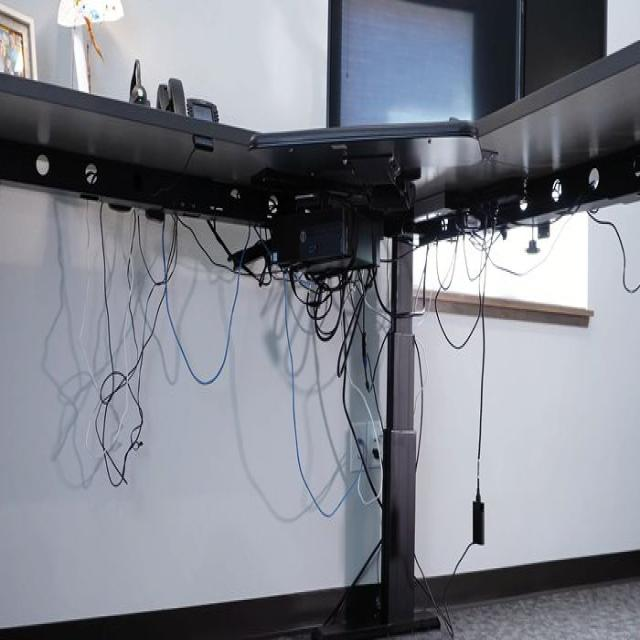electronics: (0, 45, 638, 240), (249, 120, 481, 270), (329, 0, 604, 123), (329, 0, 519, 123), (465, 0, 605, 117), (229, 203, 380, 275), (164, 285, 239, 386), (522, 0, 605, 91), (272, 205, 381, 270), (467, 0, 522, 117), (587, 208, 638, 293), (286, 211, 354, 262), (156, 78, 219, 120), (157, 78, 219, 120), (156, 78, 218, 120), (157, 78, 218, 120), (228, 240, 271, 267), (156, 78, 187, 115), (156, 78, 185, 112), (129, 59, 149, 106), (130, 59, 149, 106), (129, 59, 149, 102), (130, 59, 149, 102), (526, 219, 549, 254), (187, 98, 219, 120), (187, 99, 216, 120), (472, 490, 483, 544), (526, 224, 539, 253), (461, 211, 483, 227), (156, 82, 167, 109), (163, 221, 168, 280), (194, 133, 212, 149), (145, 206, 164, 221), (587, 165, 598, 190), (194, 133, 213, 147), (131, 83, 144, 102), (194, 136, 212, 149), (145, 206, 163, 218), (537, 219, 549, 237), (111, 202, 131, 211), (528, 238, 539, 253), (148, 208, 163, 218), (632, 155, 638, 178), (109, 202, 123, 211), (213, 224, 220, 242), (371, 446, 379, 461), (171, 221, 176, 243), (447, 93, 453, 106), (462, 136, 468, 149), (235, 270, 240, 282), (123, 204, 131, 211), (314, 202, 329, 205), (148, 211, 156, 216), (537, 226, 540, 237), (446, 54, 450, 61), (279, 251, 283, 258), (546, 221, 549, 230), (406, 227, 409, 232), (431, 0, 437, 2), (294, 216, 298, 219), (450, 99, 452, 101), (452, 156, 453, 158), (280, 234, 280, 236), (420, 202, 420, 203)
